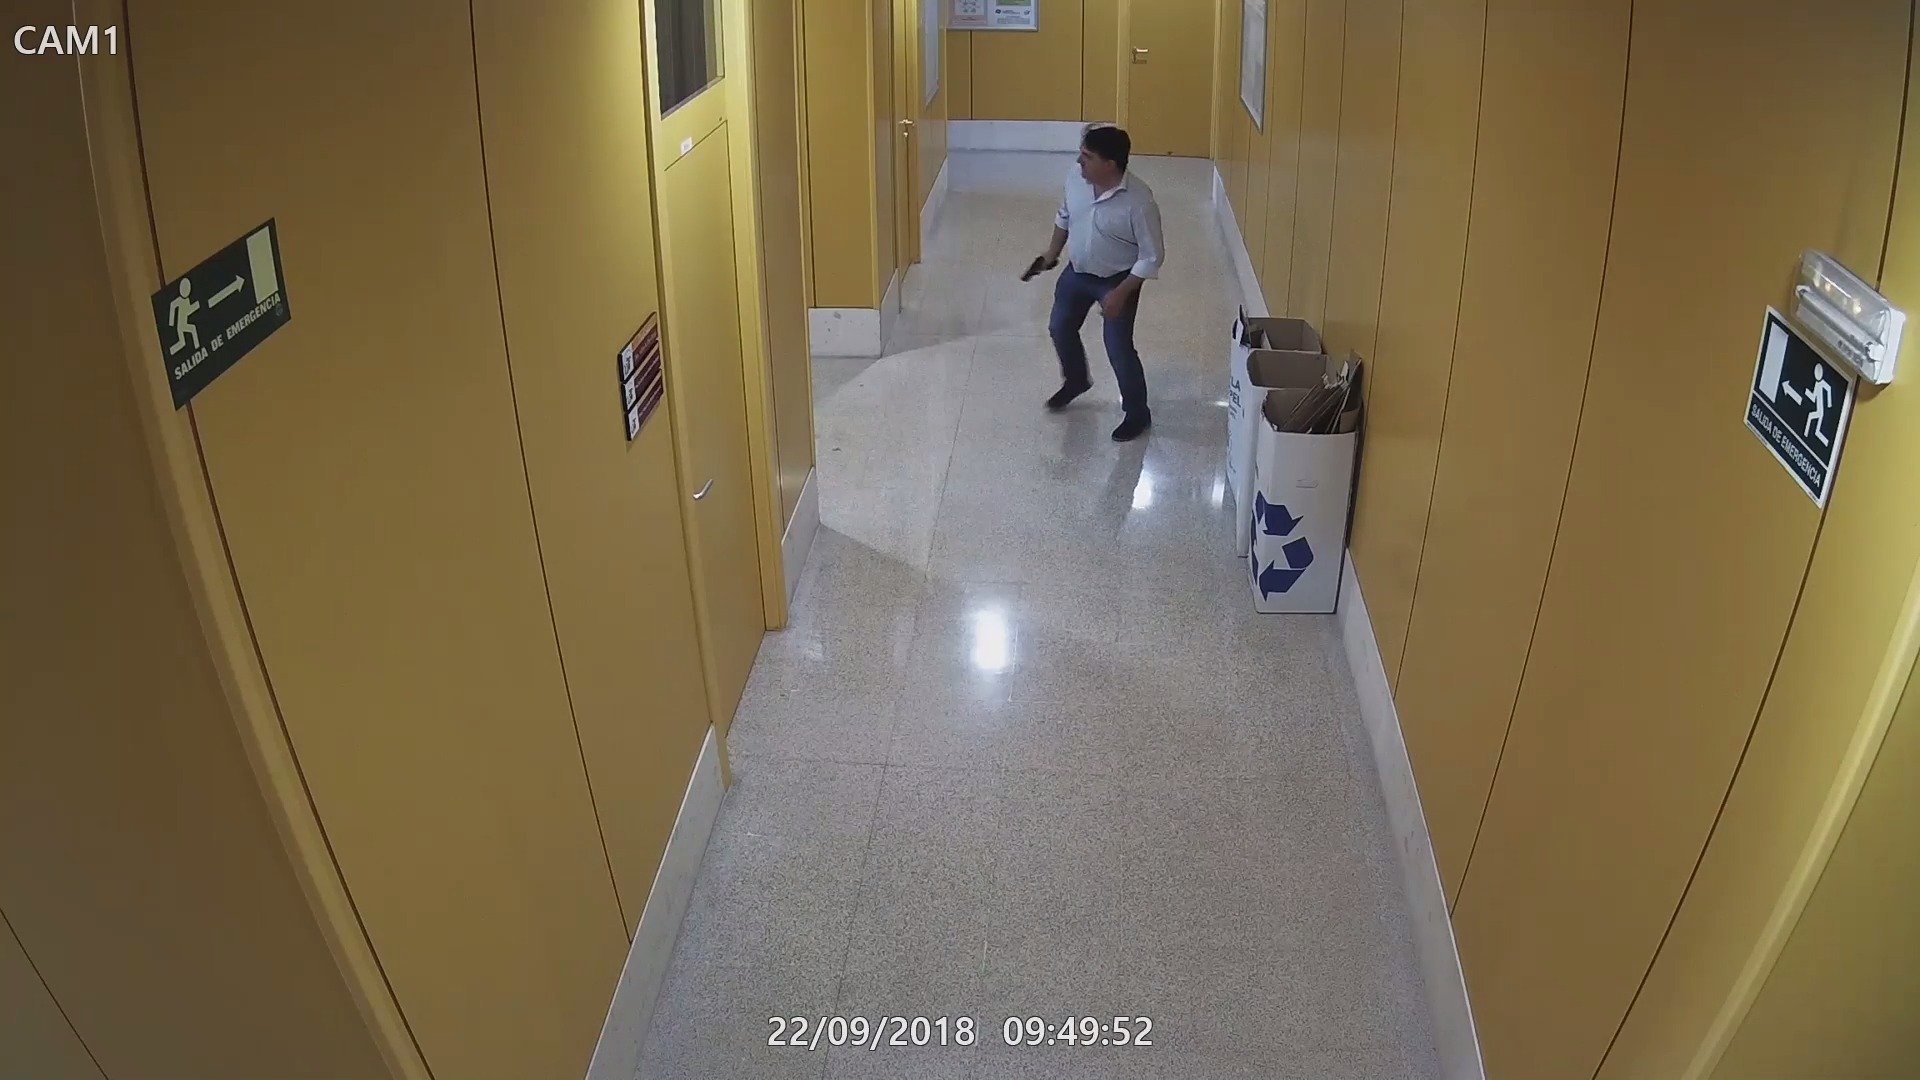Handgun: (1021, 249, 1065, 282)
